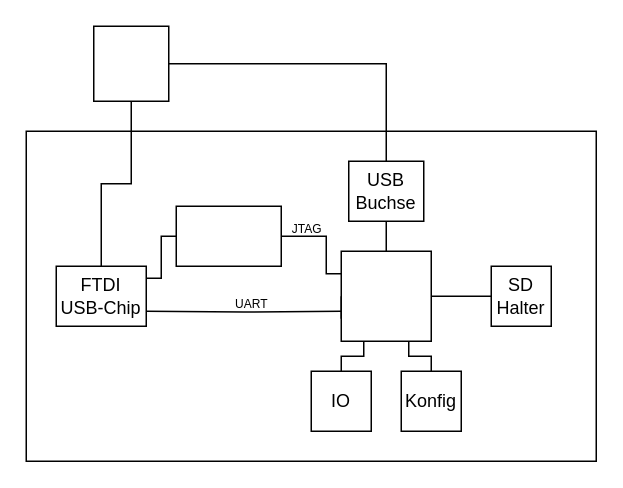
The diagram is 623 pixels wide and 488 high, and some of its shapes have lost their labels. The centre of each missing label's shape, as x and y in pixels:
"PC" goes at pixel 130 63.
"System Controller" goes at pixel 228 235.
"XU5" goes at pixel 385 295.
